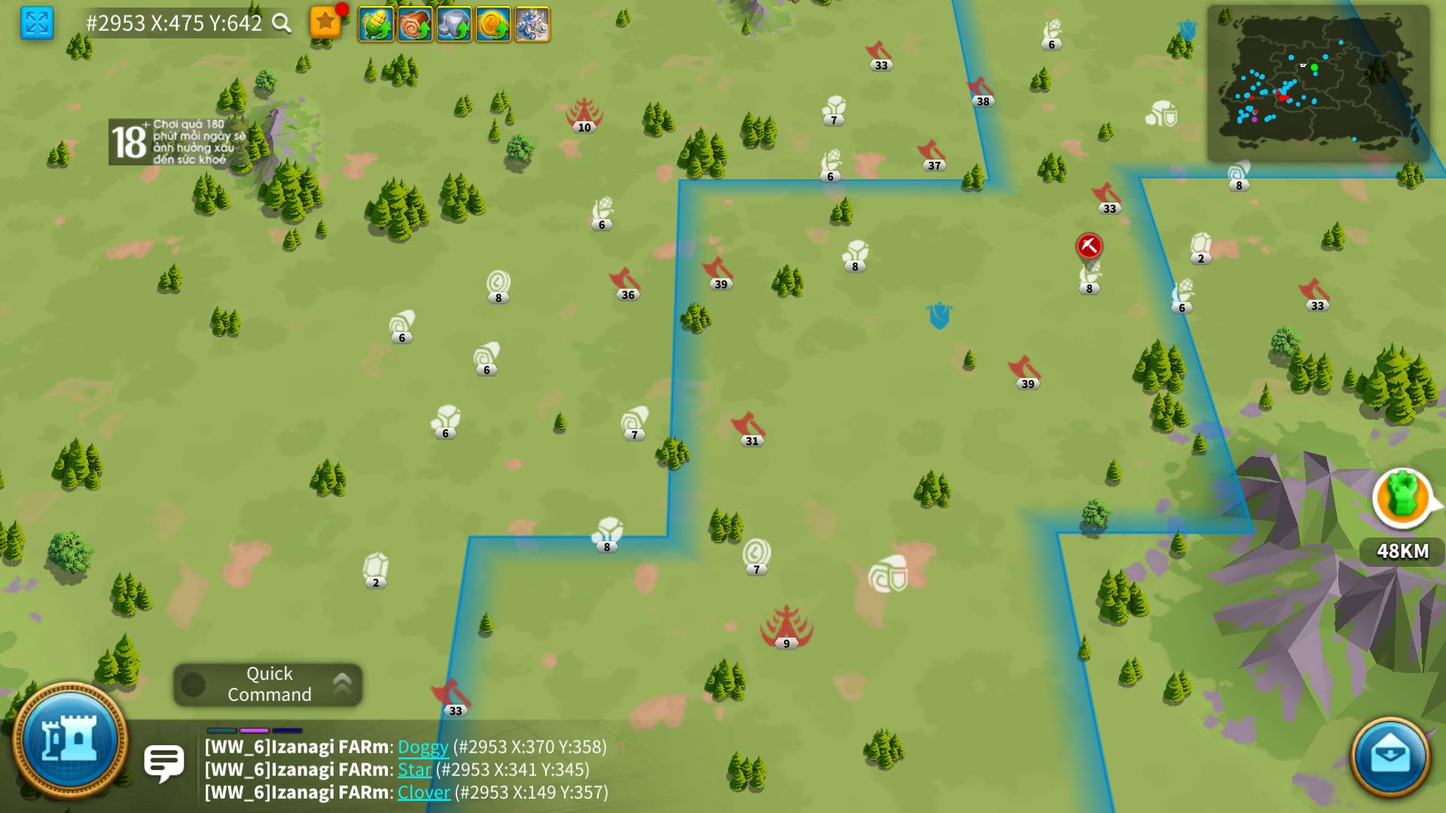gem-z-out: (361, 550, 390, 591), (1189, 231, 1213, 266)
